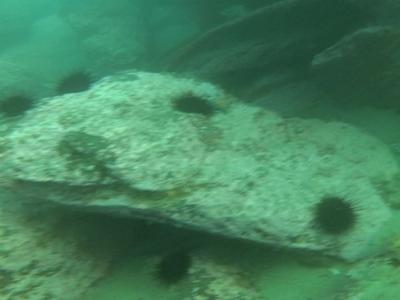urchin: (314, 195, 355, 232), (157, 248, 194, 286), (171, 94, 216, 121), (52, 69, 94, 94), (4, 95, 36, 115)
